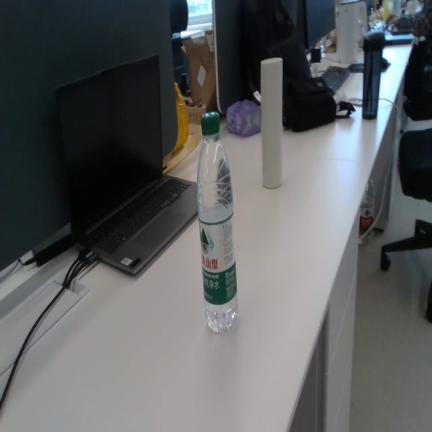bottle: (197, 112, 238, 332)
